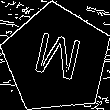M_S: (29, 29, 84, 89)
